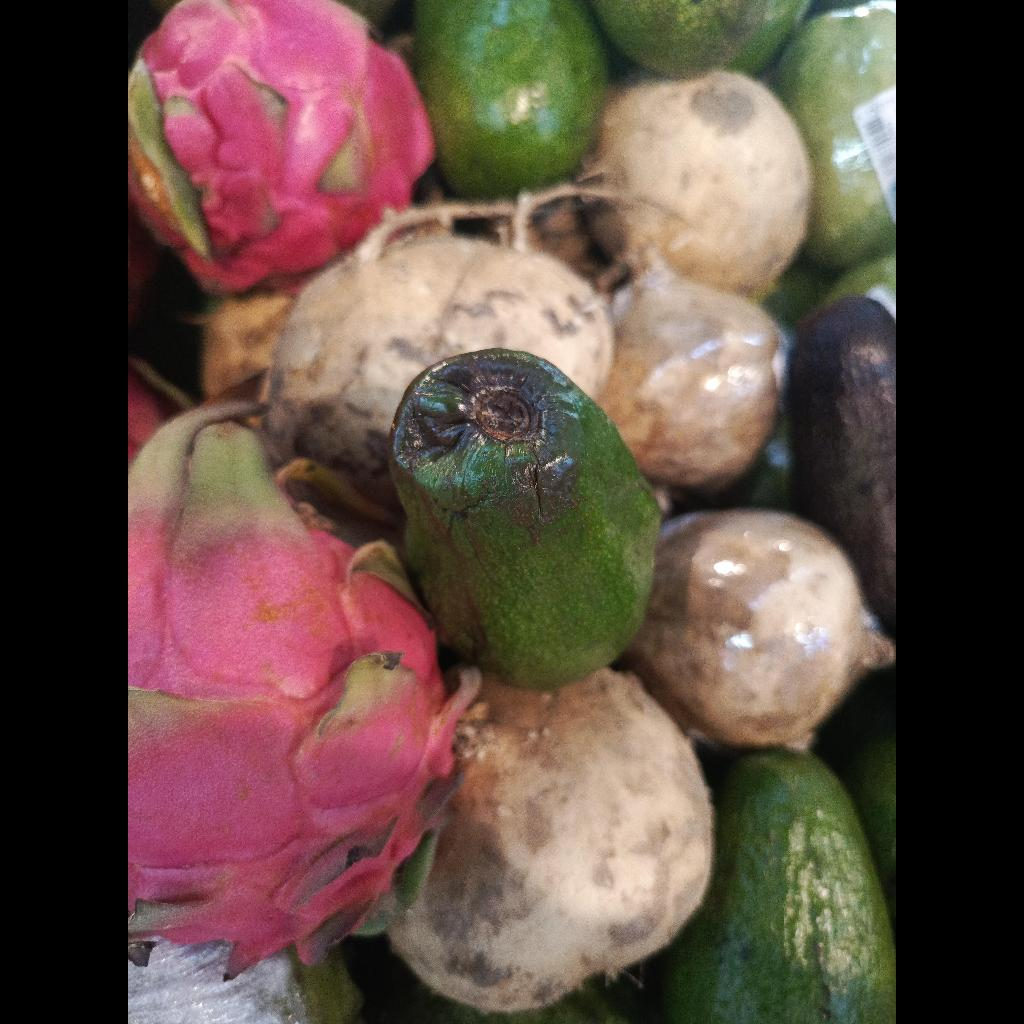pudricion_peduncular: (389, 348, 660, 691)
